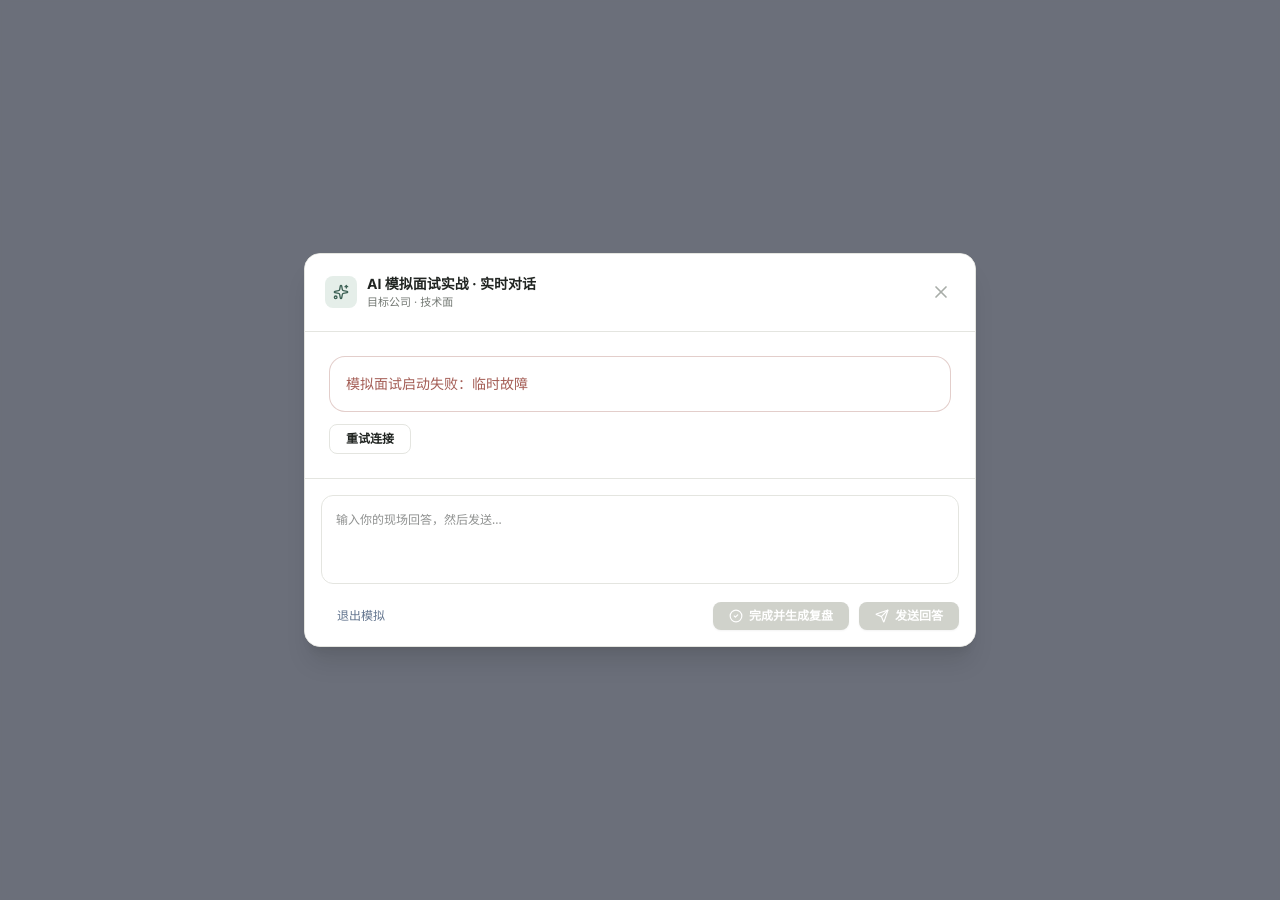
FE-MOCK-01 模拟面试启动失败必须显式报错 › 重试成功后展示真实开场白并恢复发送
The width and height of the screenshot is (1280, 900).
Click the button "重试连接" at (370, 439), box [329,424,411,454]
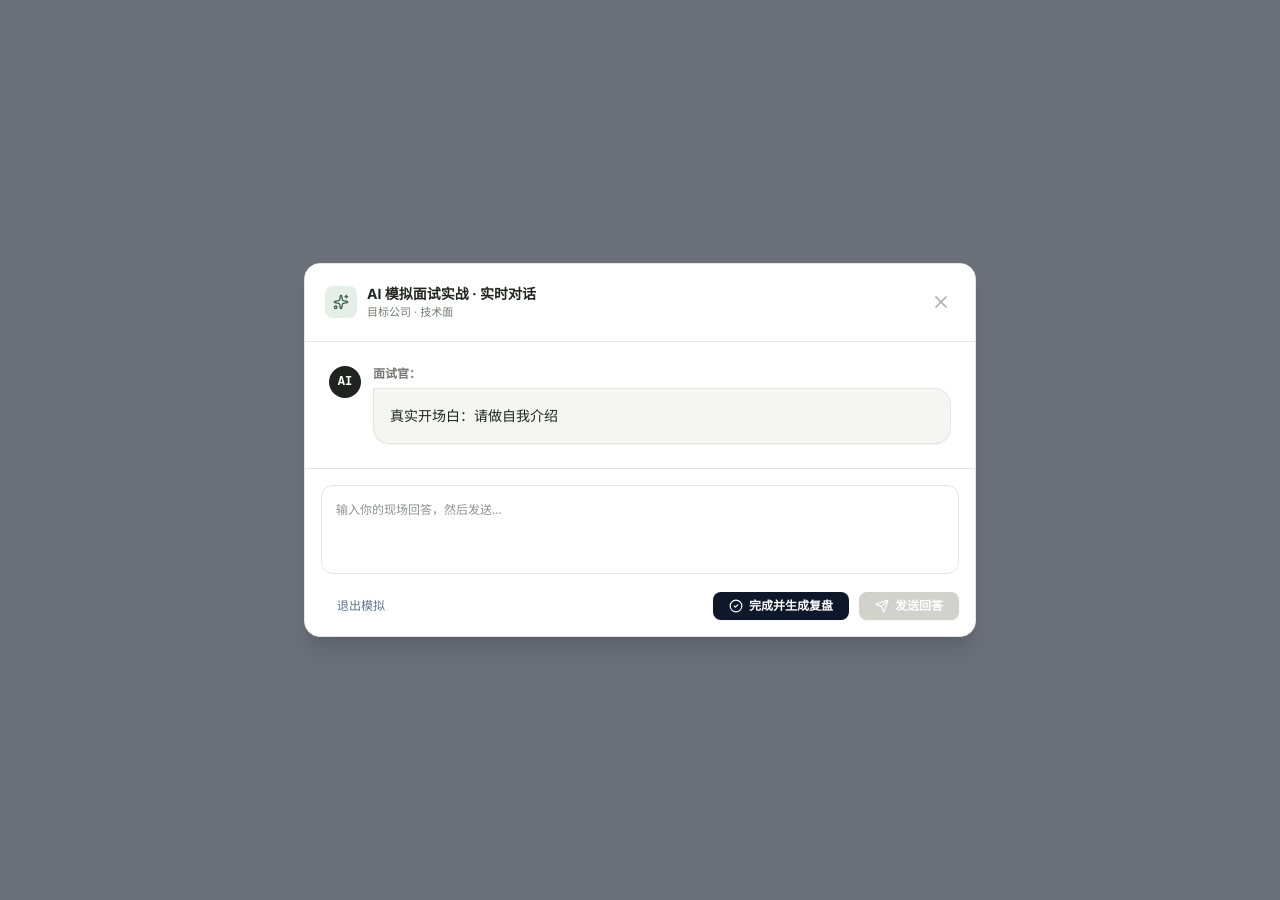
Expected: the text "真实开场白：请做自我介绍" is shown, [373,388,951,444]
Type "我的自我介绍" into the text box with placeholder "输入你的现场回答，然后发送..." at (640, 530), box [321,485,959,574]
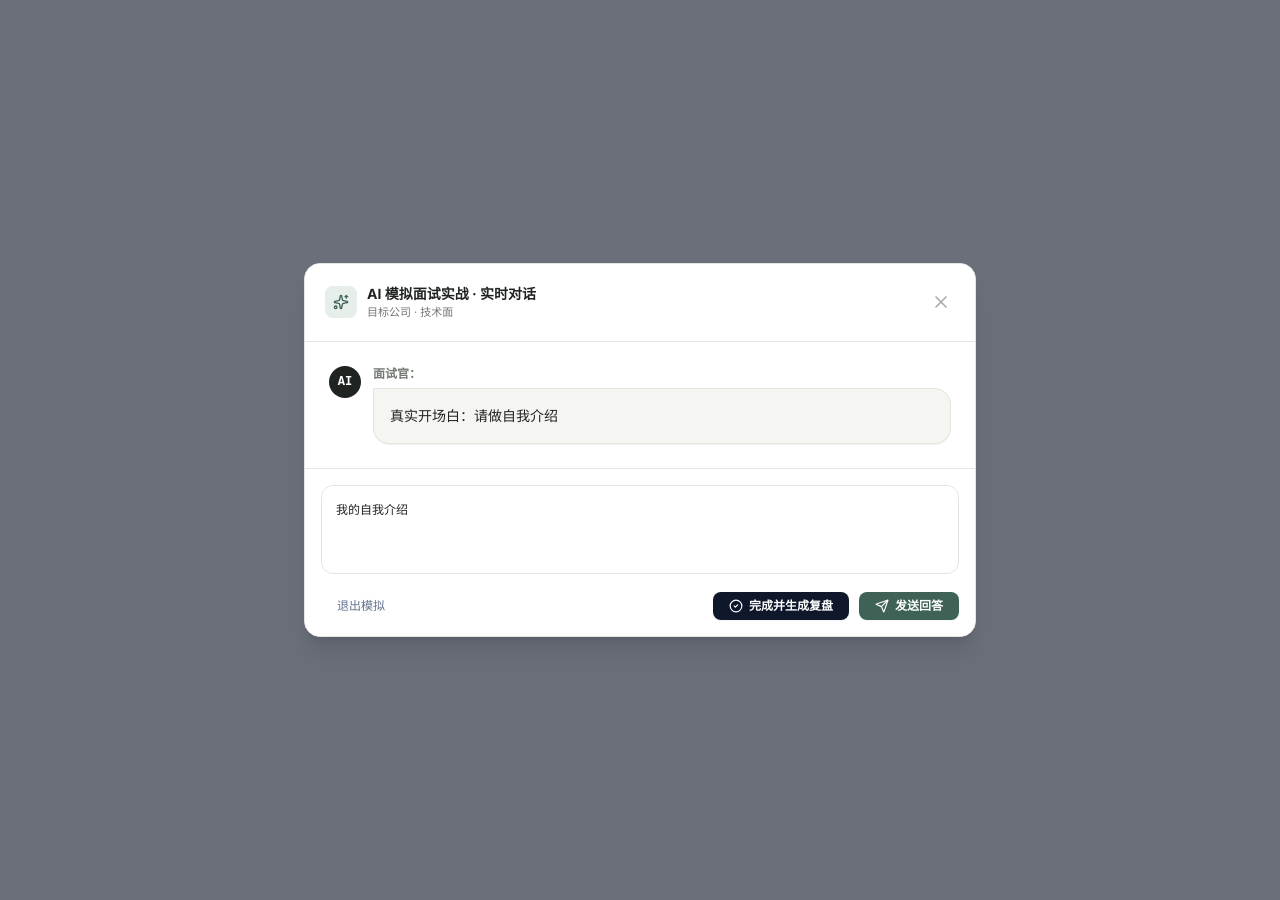
Expected: the button "发送回答" is enabled, [859,592,959,620]
